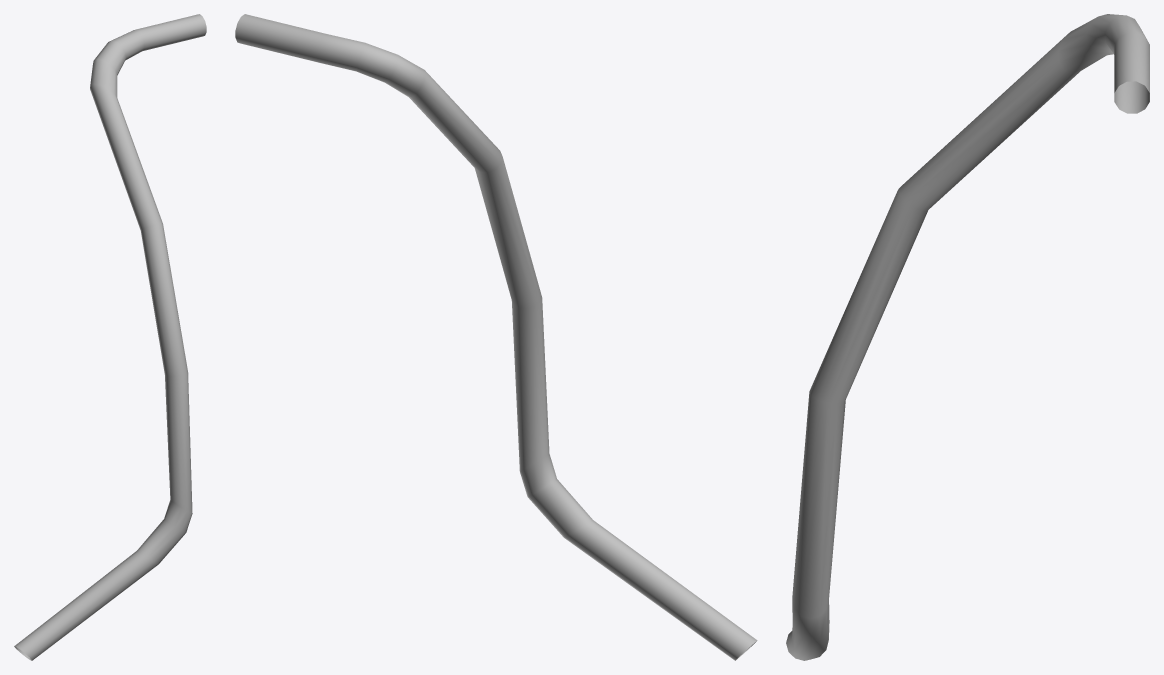
3 views of the same model, side by side, from view 1: azimuth 30°, elevation 25°; view 2: azimuth 150°, elevation 25°; view 3: azimuth 270°, elevation 25° (orthographic). The views are drawn at different scales.
Visible parts, largest first — view 1: KF_SM_Tube3; view 2: KF_SM_Tube3; view 3: KF_SM_Tube3.
Part boxes in pixels (bbox=[...]): KF_SM_Tube3: bbox=[14, 14, 206, 660]; KF_SM_Tube3: bbox=[235, 14, 757, 660]; KF_SM_Tube3: bbox=[786, 14, 1149, 660].
Size of the model in its own units: 225 by 373 by 156.
